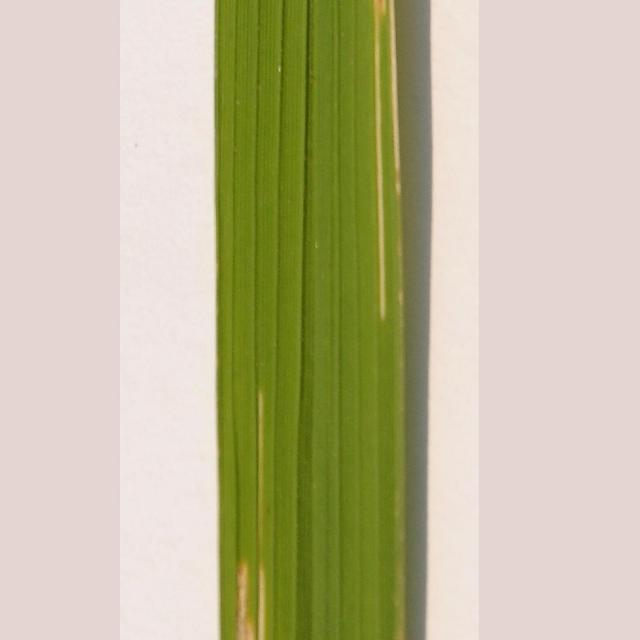leaf blight: (217, 391, 301, 640), (351, 1, 410, 322)
